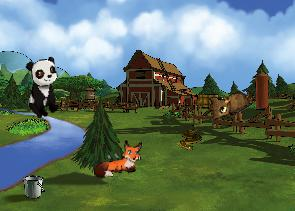fox: (90, 138, 146, 179)
owl: (202, 77, 256, 125)
panda: (24, 56, 62, 119)
